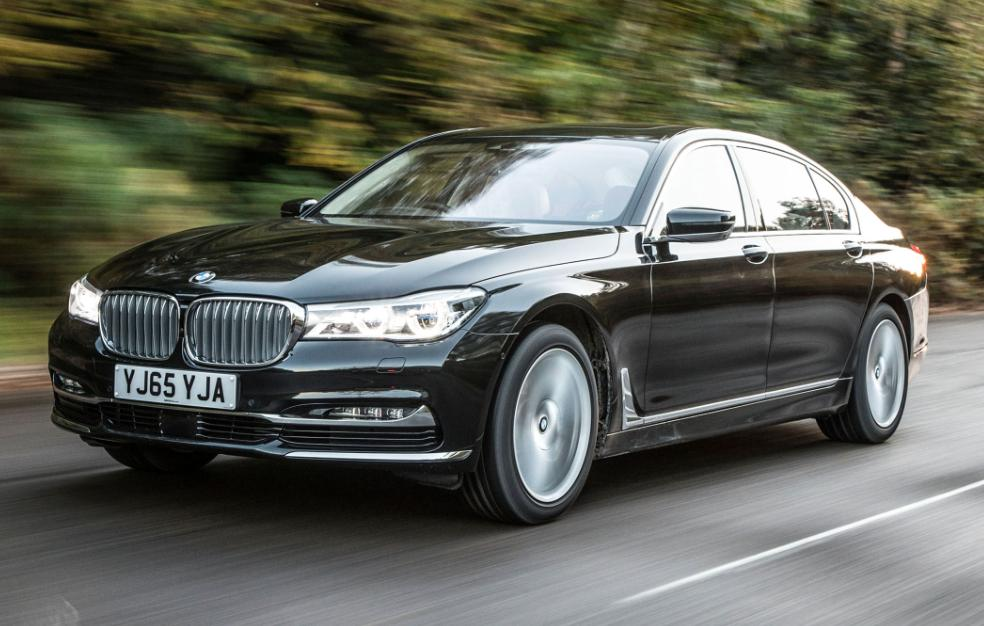car: (49, 98, 942, 535)
